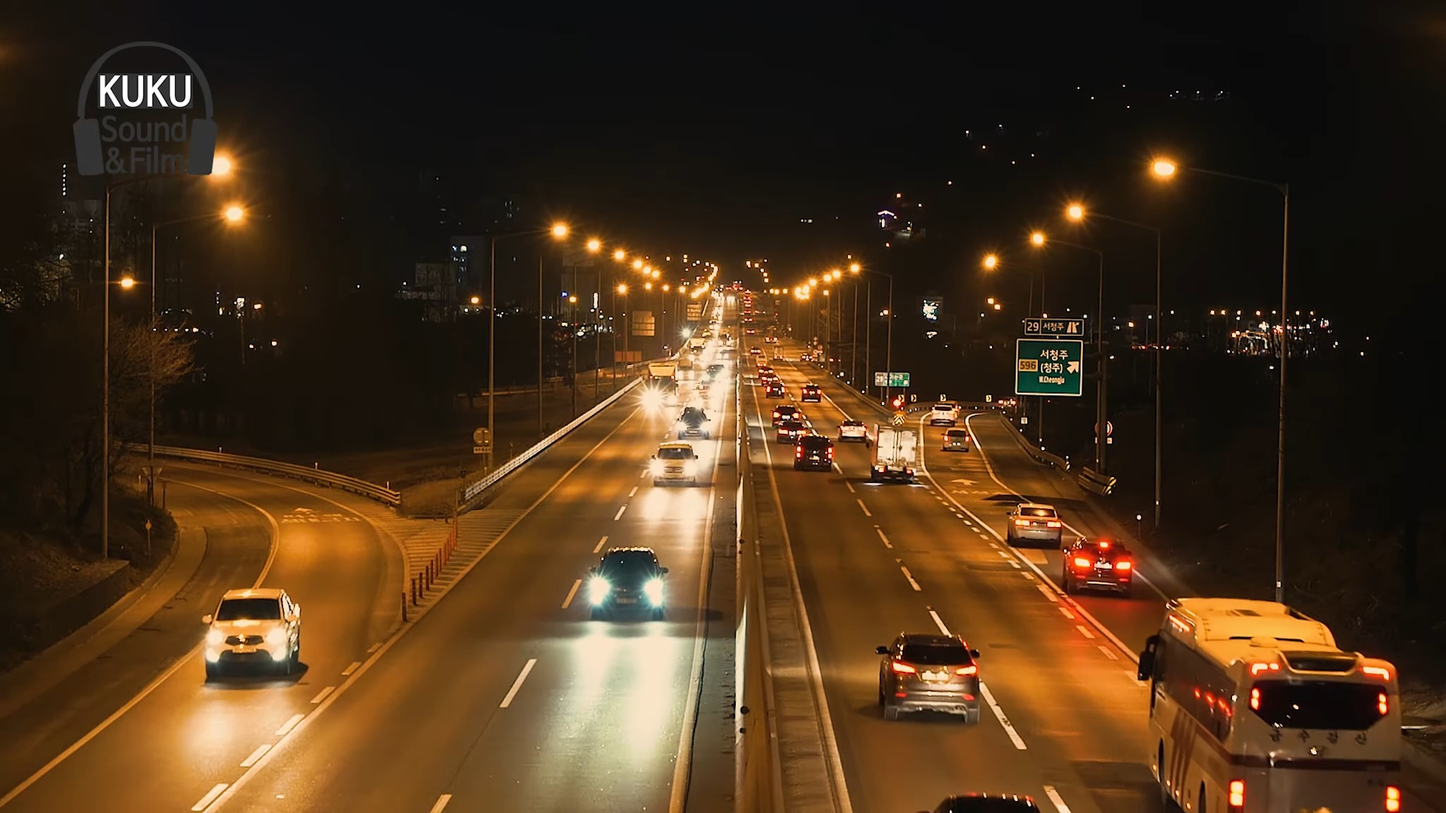car: (196, 583, 304, 689), (883, 628, 983, 724), (585, 542, 665, 629), (1059, 533, 1141, 596), (1001, 496, 1065, 546), (645, 447, 706, 484)
truck: (871, 420, 924, 484)
